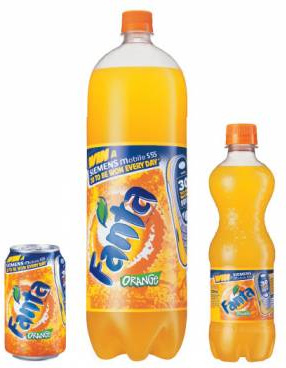Fanta: (88, 14, 190, 368), (202, 124, 281, 362), (2, 242, 71, 366)
